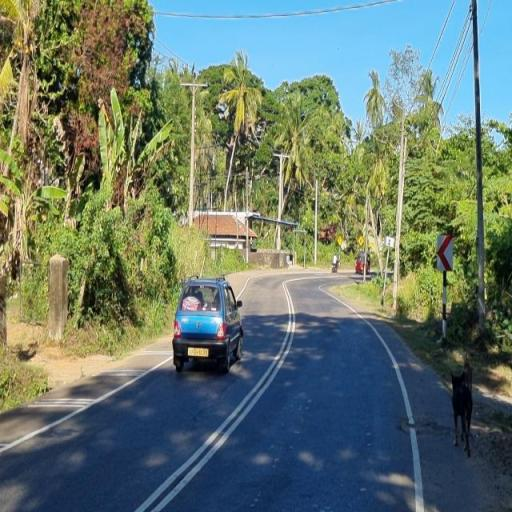double_white_line: (136, 284, 299, 510)
